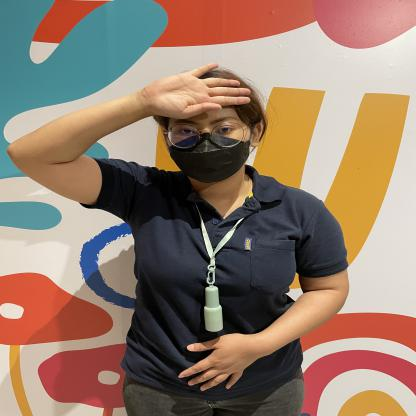Sick: (90, 57, 295, 124)
